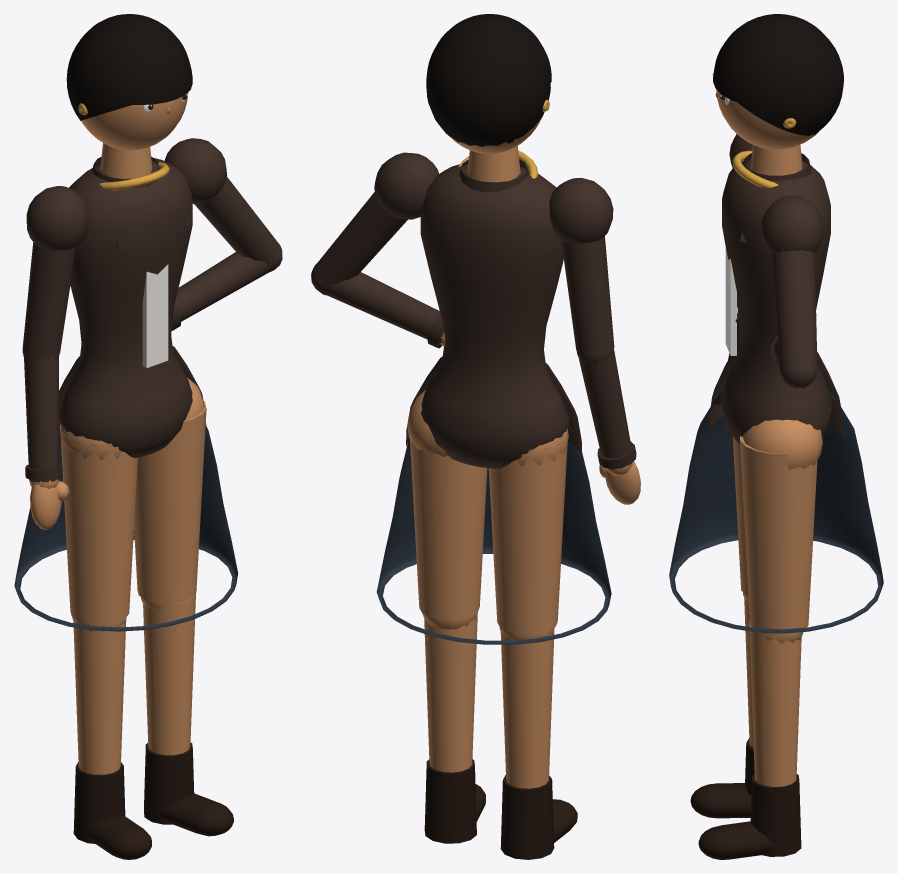
Rendered from 05-laras.glb.
The picture shows the model from 3 angles, left to right: view 1: azimuth 30°, elevation 25°; view 2: azimuth 150°, elevation 25°; view 3: azimuth 270°, elevation 25°; orthographic projection. The views are drawn at different scales.
Visible parts, largest first — view 1: Laras, skull, elbow (×2), armR, armL; view 2: Laras, skull, elbow (×2), armR, armL; view 3: Laras, skull, armL, elbow.
Boxes of the visible parts, box(x1,y1,x2,y2) form: Laras: box(14, 143, 238, 859); skull: box(66, 14, 192, 150); elbow (×2): box(22, 243, 282, 529); armR: box(22, 186, 88, 357); armL: box(164, 138, 280, 266); Laras: box(376, 146, 611, 859); skull: box(426, 14, 551, 153); elbow (×2): box(311, 263, 640, 504); armR: box(549, 178, 614, 355); armL: box(314, 152, 438, 288); Laras: box(669, 144, 883, 859); skull: box(712, 14, 843, 149); armL: box(760, 195, 823, 370); elbow: box(769, 335, 817, 388).
Size of the model in its own units: 0.6343 by 1.72 by 0.413.
